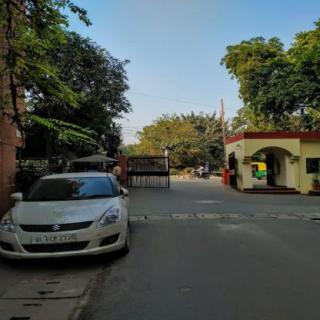Normal_vehicle: (0, 172, 128, 259)
